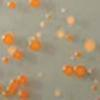orange: (75, 63, 88, 80), (2, 33, 16, 47), (29, 0, 44, 12), (31, 40, 44, 53), (14, 51, 27, 63), (62, 63, 73, 76), (85, 38, 95, 52), (7, 0, 18, 10), (20, 88, 30, 99), (18, 76, 27, 86), (2, 90, 12, 99), (1, 81, 6, 97), (11, 80, 20, 88), (56, 31, 64, 40), (66, 16, 75, 24), (7, 48, 16, 56), (66, 32, 72, 43), (74, 50, 81, 59), (2, 56, 9, 64), (6, 86, 15, 92)
white: (27, 37, 36, 46), (39, 21, 47, 30), (60, 8, 68, 16), (37, 72, 44, 79), (36, 32, 42, 39)
